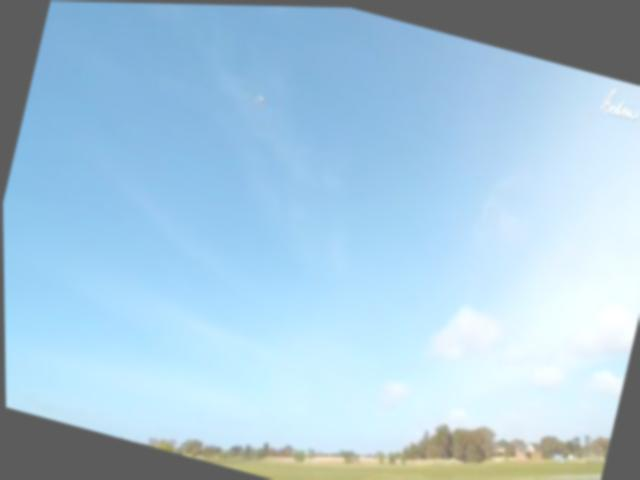uav: (245, 82, 270, 109)
